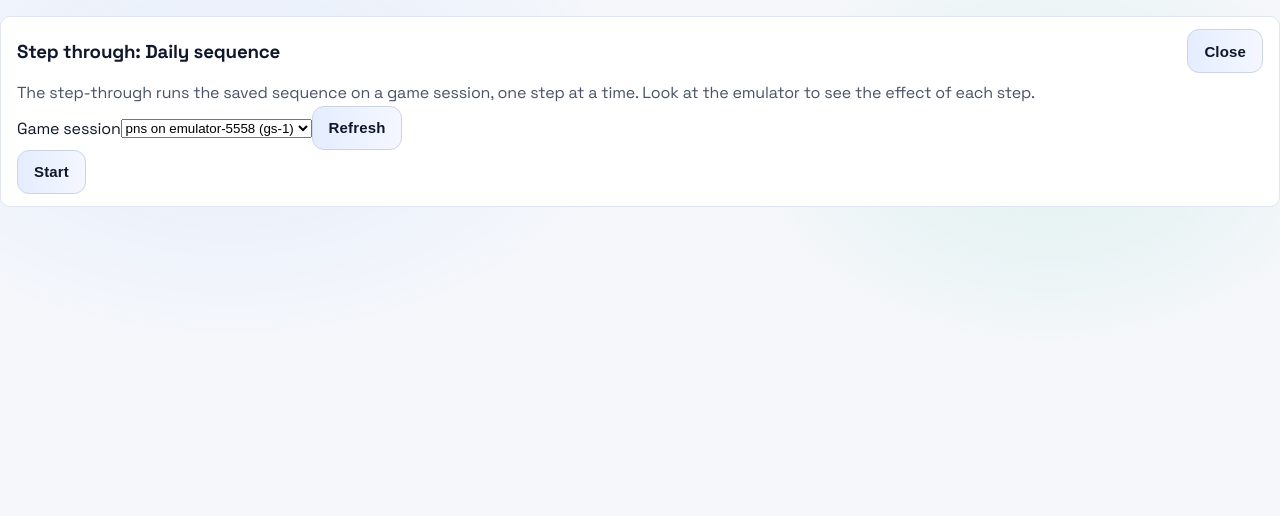
Scenario: StepThroughPanel manual selection › keeps Run next step enabled after the sequence is complete when the author selected a step
Click the button "Start" at (51, 172), box x1=17 y1=150 x2=86 y2=194
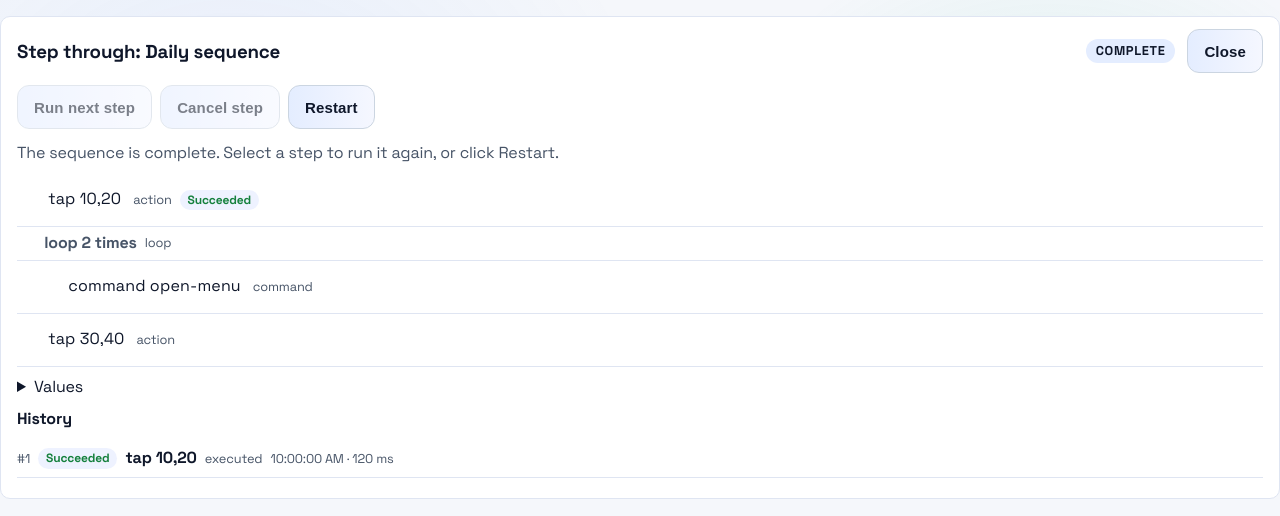
Check: the list named "Steps" is shown, box x1=17 y1=174 x2=1263 y2=367
Check: the button "Run next step" is disabled, box x1=17 y1=85 x2=152 y2=129
Click the button "tap 10,20" at (85, 200), box x1=44 y1=178 x2=125 y2=222
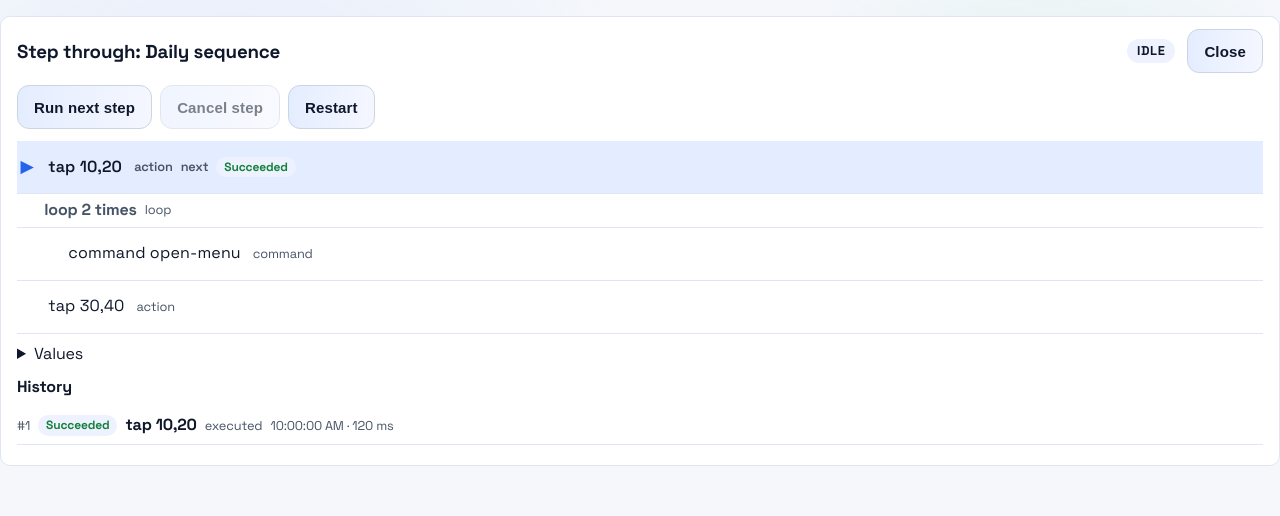
Check: the button "Run next step" is enabled, box x1=17 y1=85 x2=152 y2=129
